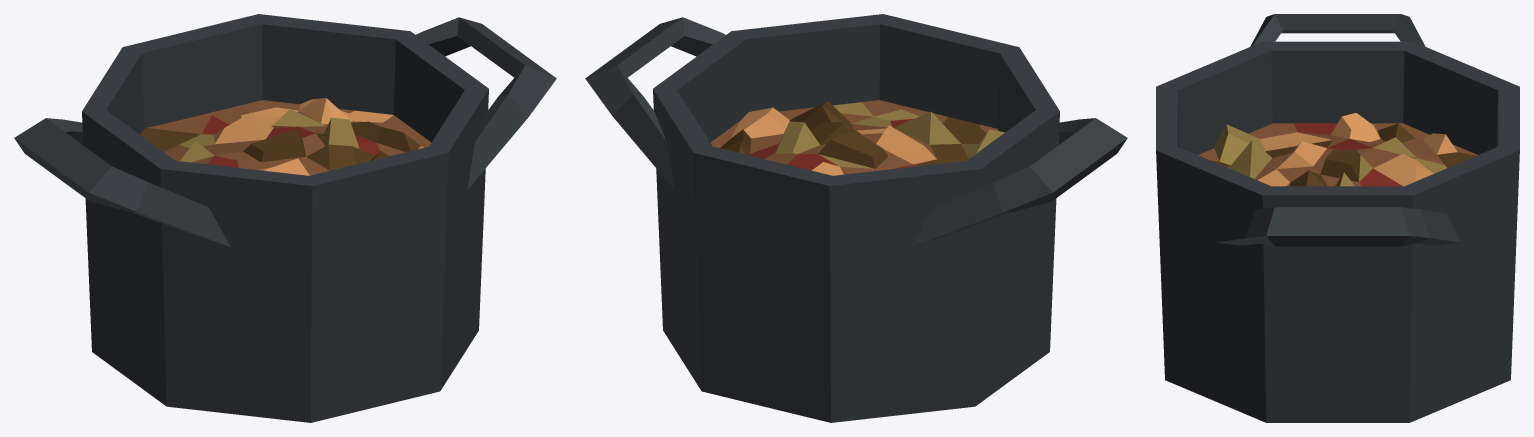
File: pot.fbx
3 views of the same model, side by side, from view 1: azimuth 30°, elevation 25°; view 2: azimuth 150°, elevation 25°; view 3: azimuth 270°, elevation 25° (orthographic). The views are drawn at different scales.
Visible parts, largest first — view 1: pot; view 2: pot; view 3: pot.
Part boxes in pixels (box(x1,y1,x2,y2)): pot: box(14, 14, 556, 422); pot: box(585, 14, 1127, 422); pot: box(1156, 14, 1519, 422).
Bounding box in the file's own units: 138 × 70.52 × 97.23.
